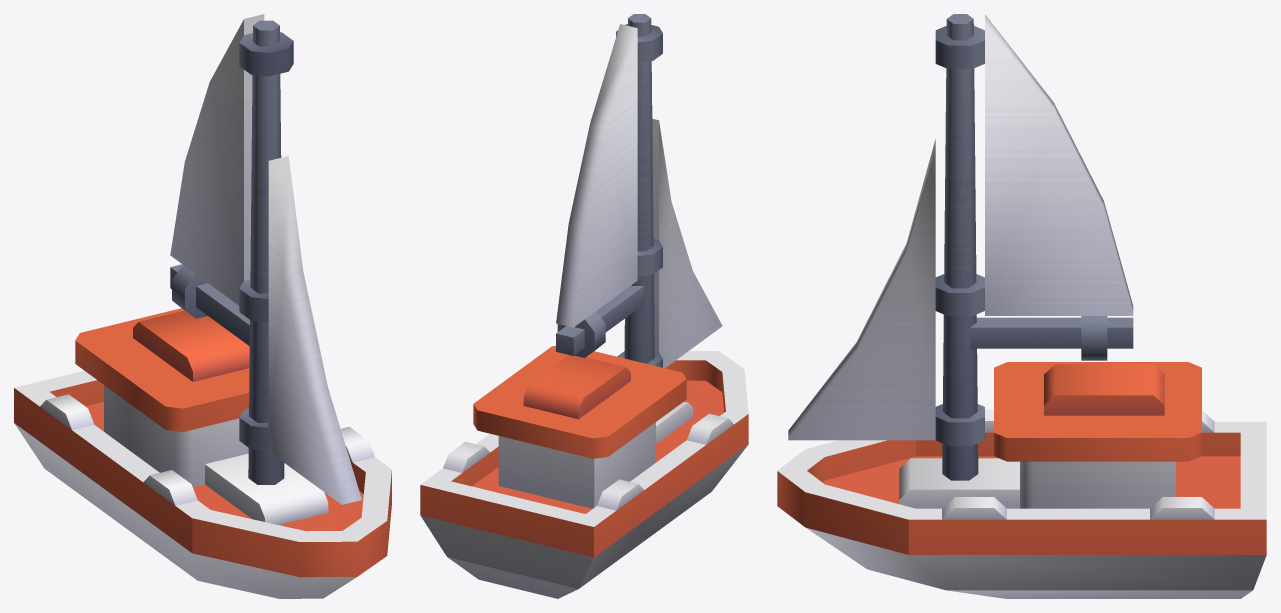
Rendered from boat-sail-a.glb.
The picture shows the model from 3 angles, left to right: view 1: azimuth 30°, elevation 25°; view 2: azimuth 150°, elevation 25°; view 3: azimuth 270°, elevation 25°; orthographic projection. The views are drawn at different scales.
Parts seen in each view (by area): view 1: boat-sail-a, sail; view 2: boat-sail-a, sail; view 3: boat-sail-a, sail.
Boxes of the visible parts, x1,y1,x2,y2 form: boat-sail-a: [14, 308, 391, 598]; sail: [170, 14, 361, 504]; boat-sail-a: [420, 346, 748, 598]; sail: [556, 14, 722, 368]; boat-sail-a: [777, 362, 1266, 598]; sail: [788, 14, 1133, 480].
Size of the model in its own units: 1.78 by 4.74 by 3.77.
1 material, 1 textured.
